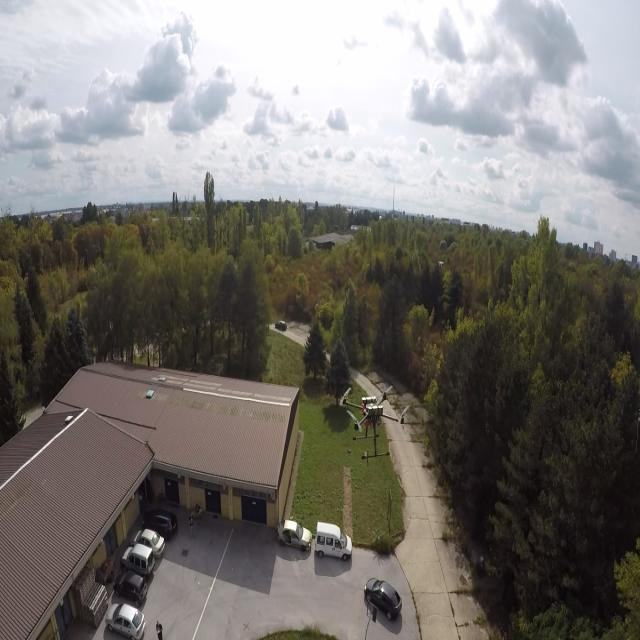UAV: (340, 379, 410, 462)
